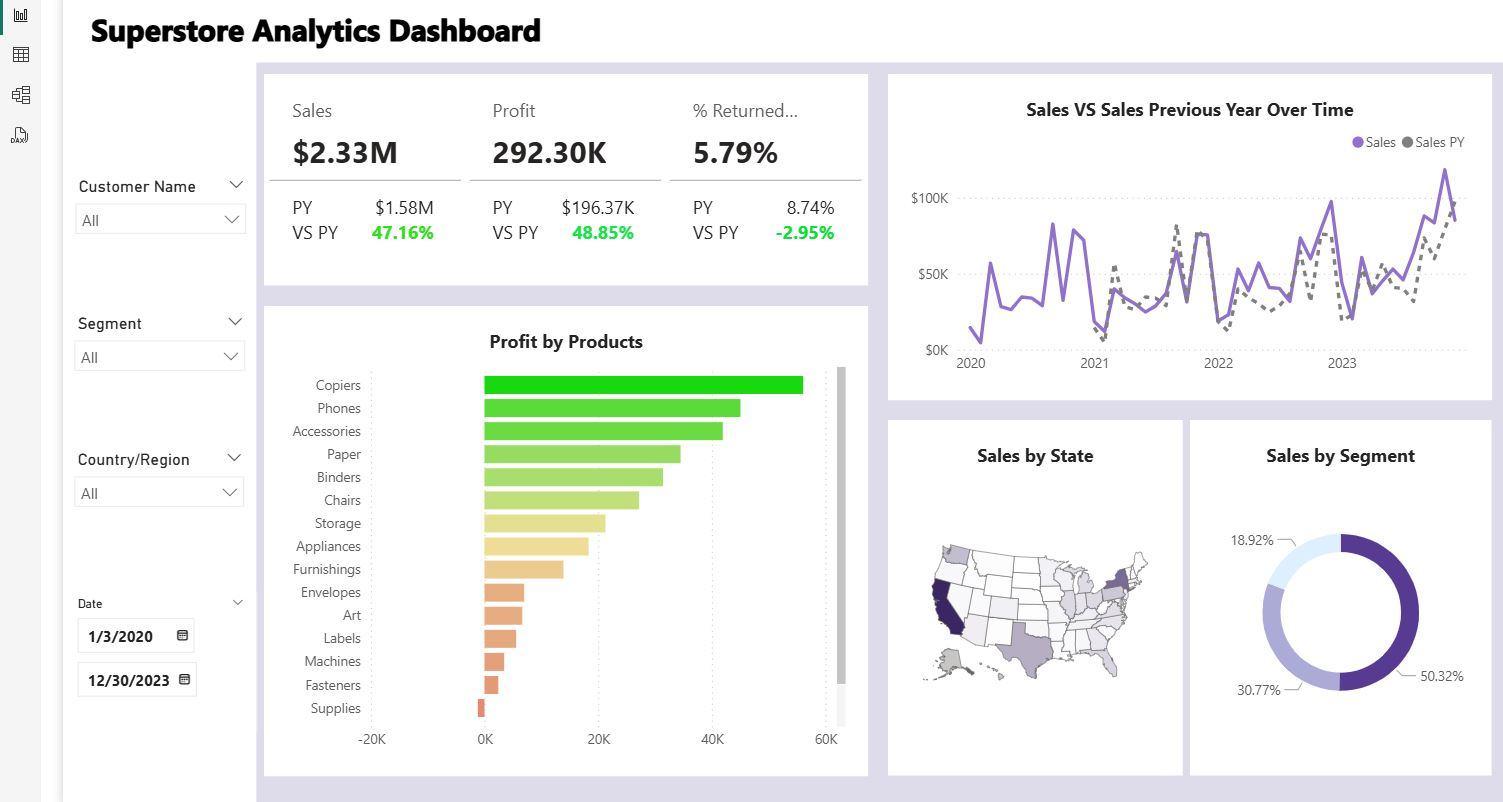

This screenshot's page, from the dashboard's own definition file:
{"tool":"powerbi","page":{"name":"Page 1","canvas":[1280,720],"ordinal":0},"visuals":[{"type":"shape","box":[0,58.4,171.8,661.6],"z":0},{"type":"cardVisual","fields":{"Data":["Key Measures.Sales","Key Measures.Profit","Key Measures.% Returned Orders"]},"box":[179,70,537,188],"z":1000},{"type":"shape","box":[0,0,1280,60.4],"z":2000},{"type":"lineChart","title":"Sales VS Sales Previous Year Over Time ","fields":{"Y":["Key Measures.Sales","Key Measures.Sales PY"],"Category":["ِDate Table.Start of Month"]},"box":[733,70,537,290],"z":3000},{"type":"barChart","title":"Profit by Products ","fields":{"Category":["Orders.Category","Orders.Sub-Category"],"Y":["Key Measures.Profit"]},"box":[179,276,537,418],"z":4000},{"type":"shapeMap","title":"Sales by State","fields":{"Value":["Key Measures.Sales"],"Category":["Orders.State/Province"]},"box":[733,378,262,316],"z":5000},{"type":"donutChart","title":"Sales by Segment","fields":{"Category":["Orders.Segment"],"Y":["Key Measures.Sales"]},"box":[1002,378,268,316],"z":6000},{"type":"slicer","fields":{"Values":["Orders.Customer Name"]},"box":[1,157.2,171.9,87.4],"z":7000},{"type":"slicer","fields":{"Values":["Orders.Segment"]},"box":[0,279,171.9,80.6],"z":8000},{"type":"slicer","fields":{"Values":["Orders.Country/Region"]},"box":[0,399.8,170.9,85.5],"z":9000},{"type":"slicer","fields":{"Values":["ِDate Table.Date"]},"box":[0,529.5,172.9,125.7],"z":10000}]}

Visuals, with their boxes on the page's 1280x720 design canvas (x1, y1, x2, y2). These are canvas units, not pixel positions in the 1503x802 screenshot, which may show the page scaled, cropped or inside an application window:
shape: (x1=0, y1=58, x2=172, y2=720)
cardVisual - Key Measures.Sales x Key Measures.Profit: (x1=179, y1=70, x2=716, y2=258)
shape: (x1=0, y1=0, x2=1280, y2=60)
"Sales VS Sales Previous Year Over Time " lineChart: (x1=733, y1=70, x2=1270, y2=360)
"Profit by Products " barChart: (x1=179, y1=276, x2=716, y2=694)
"Sales by State" shapeMap: (x1=733, y1=378, x2=995, y2=694)
"Sales by Segment" donutChart: (x1=1002, y1=378, x2=1270, y2=694)
slicer - Orders.Customer Name: (x1=1, y1=157, x2=173, y2=245)
slicer - Orders.Segment: (x1=0, y1=279, x2=172, y2=360)
slicer - Orders.Country/Region: (x1=0, y1=400, x2=171, y2=485)
slicer - ِDate Table.Date: (x1=0, y1=530, x2=173, y2=655)
